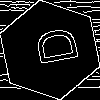D: (25, 25, 79, 69)
